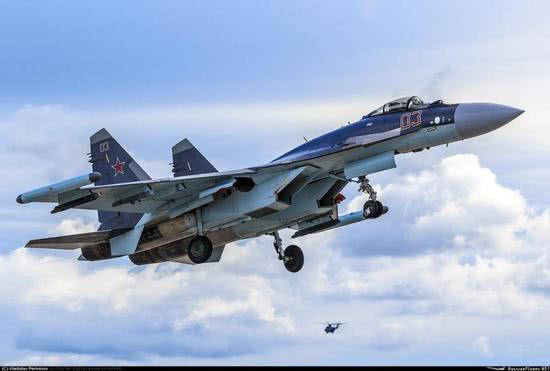airplane: (16, 90, 529, 274), (321, 316, 345, 336)
